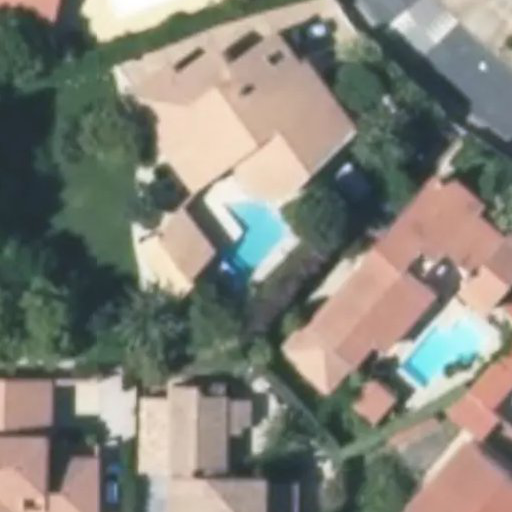pool: (196, 221, 299, 245)
